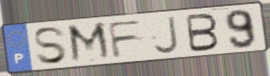9: (222, 7, 258, 50)
B: (185, 12, 221, 54)
F: (106, 18, 145, 60)
J: (152, 15, 181, 56)
M: (66, 21, 114, 65)
S: (32, 25, 70, 66)
